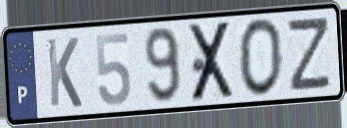5: (93, 29, 133, 108)
9: (142, 25, 184, 106)
K: (44, 35, 84, 110)
O: (236, 16, 285, 99)
X: (187, 18, 238, 105)
Z: (287, 14, 333, 94)
